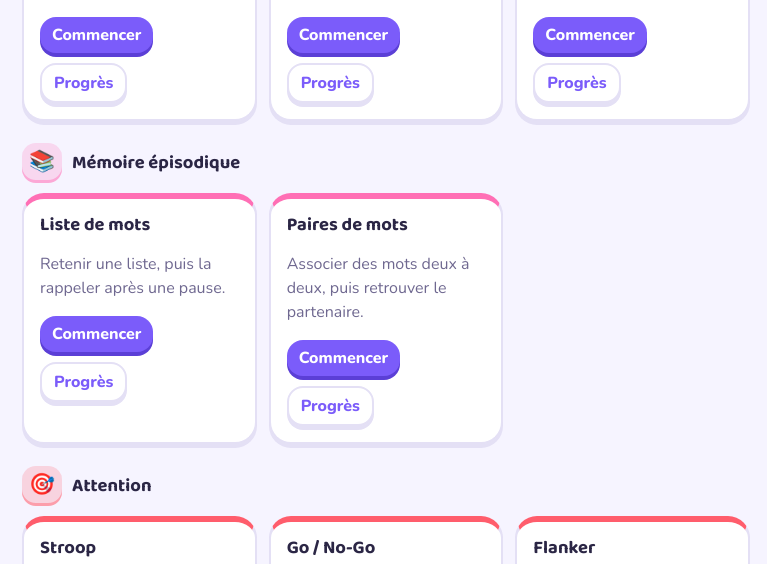
Test: every exercise › Paires de mots opens, runs for a while and can be quit
(page scrolled)
Click the button "Commencer" below "Paires de mots" at (343, 358), box [287, 340, 400, 376]
(page scrolled)
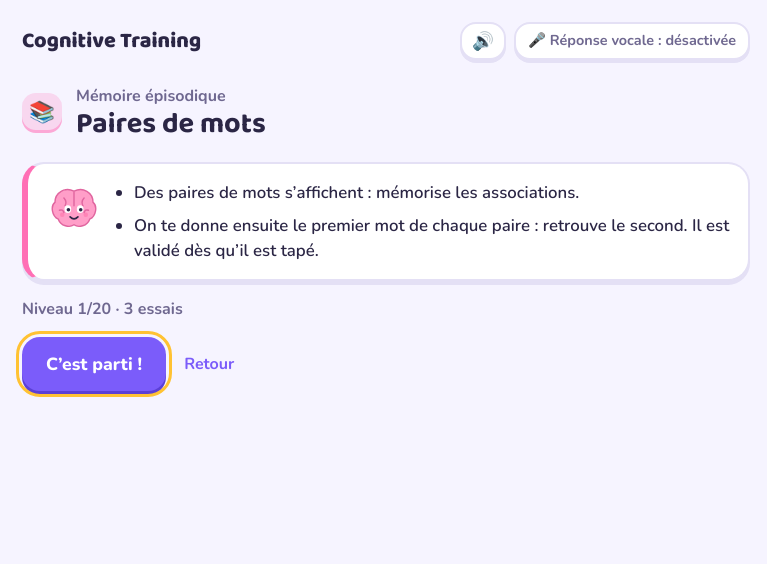
Click the button "C’est parti !" at (94, 364), box [22, 337, 166, 392]
Wait 20000 ms
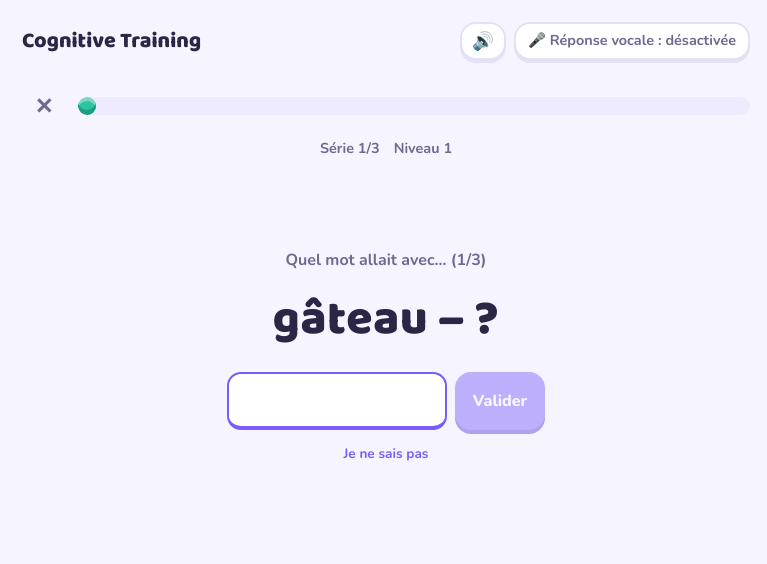
expect the text "Niveau 1" is shown: met, box [394, 138, 452, 160]
expect the button named "Abandonner" is shown: met
Click the button named "Abandonner" at (44, 106), box [22, 84, 66, 128]
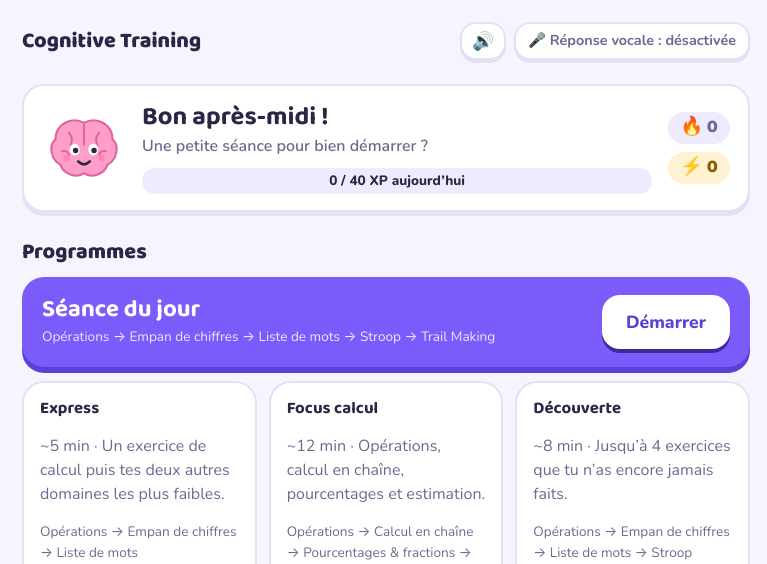
expect the heading "Programmes" is shown: met, box [22, 235, 147, 269]
